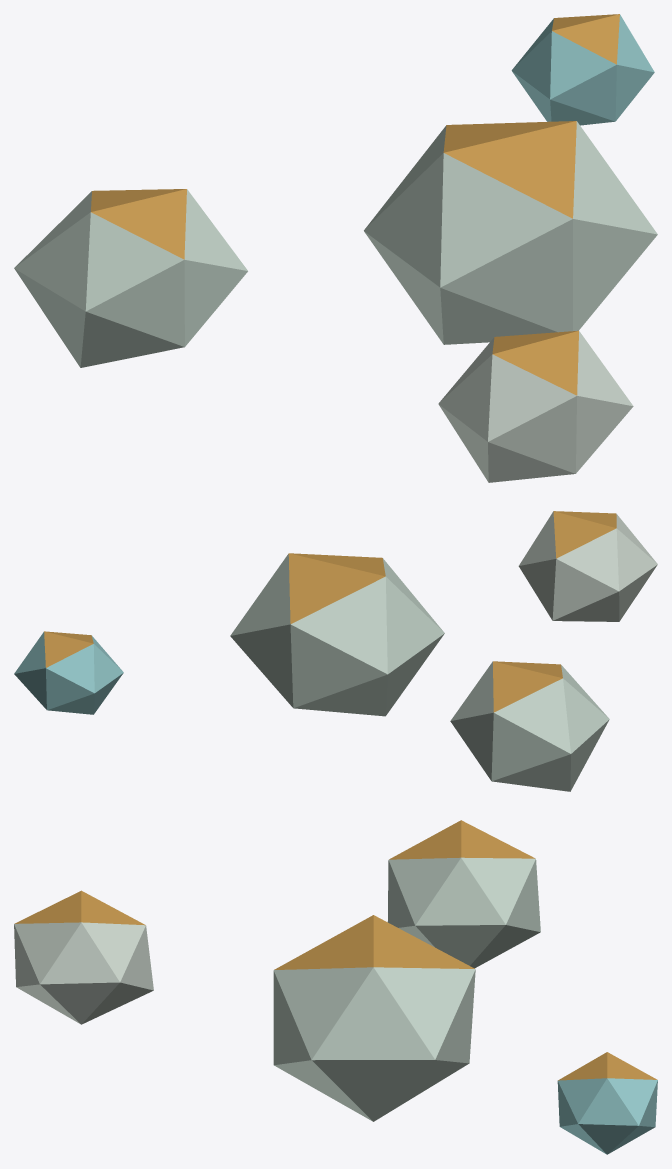
The model's file is debris_ice.gltf.
3 renders of one model, top to bottom at view 1: azimuth 30°, elevation 25°; view 2: azimuth 150°, elevation 25°; view 3: azimuth 270°, elevation 25°, orthographic. The views are drawn at different scales.
Parts seen in each view (by area): view 1: rock, rock.4, rock.2, rock.3; view 2: rock, rock.4, rock.2, rock.3; view 3: rock, rock.4, rock.2, rock.3.
Boxes of the visible parts, left/top/right/bottom form: rock: left=364, top=121, right=657, bottom=344; rock.4: left=14, top=189, right=247, bottom=367; rock.2: left=438, top=330, right=633, bottom=482; rock.3: left=511, top=14, right=654, bottom=125; rock: left=230, top=553, right=444, bottom=716; rock.4: left=450, top=661, right=609, bottom=791; rock.2: left=518, top=511, right=657, bottom=621; rock.3: left=14, top=631, right=123, bottom=714; rock: left=273, top=915, right=475, bottom=1121; rock.4: left=387, top=820, right=540, bottom=968; rock.2: left=14, top=890, right=153, bottom=1024; rock.3: left=557, top=1052, right=657, bottom=1154.
Size of the model in its own units: 2.17 by 0.5842 by 2.2.
